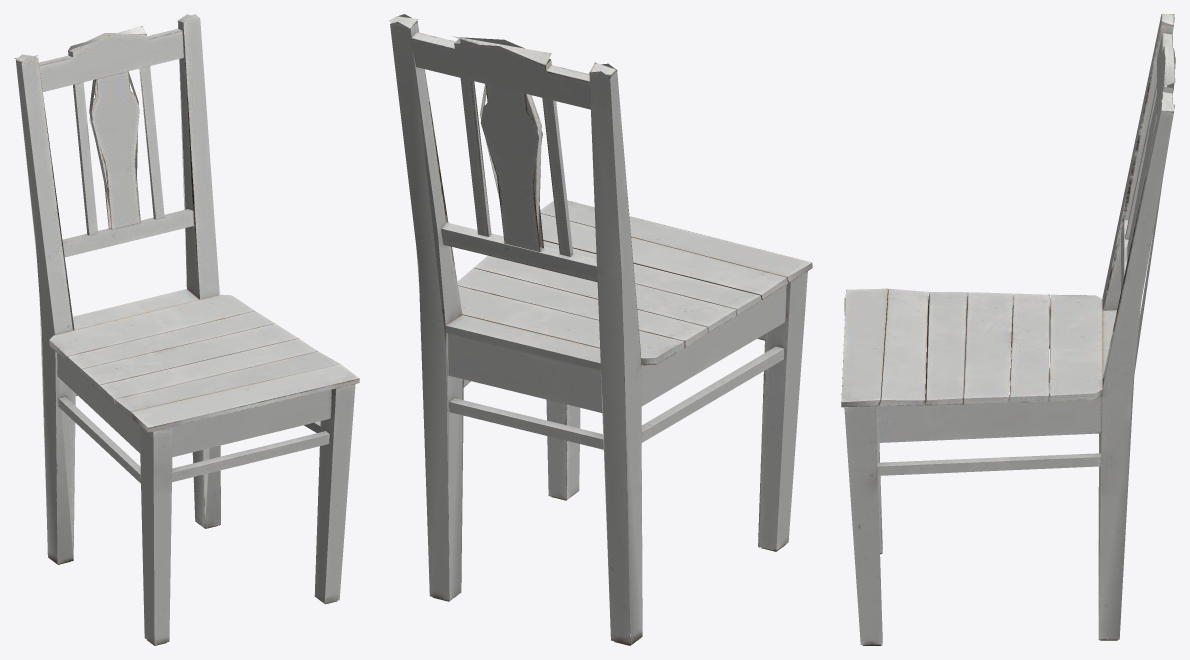
Rendered from painted_wooden_chair_01.glb.
3 renders of one model, left to right at view 1: azimuth 30°, elevation 25°; view 2: azimuth 150°, elevation 25°; view 3: azimuth 270°, elevation 25°, orthographic. The views are drawn at different scales.
Visible parts, largest first — view 1: painted_wooden_chair_01; view 2: painted_wooden_chair_01; view 3: painted_wooden_chair_01.
Boxes of the visible parts, x1,y1,x2,y2 form: painted_wooden_chair_01: [14, 14, 359, 645]; painted_wooden_chair_01: [388, 14, 812, 645]; painted_wooden_chair_01: [841, 14, 1175, 645].
Size of the model in its own units: 0.4286 by 0.9568 by 0.538.
1 material, 1 textured.
